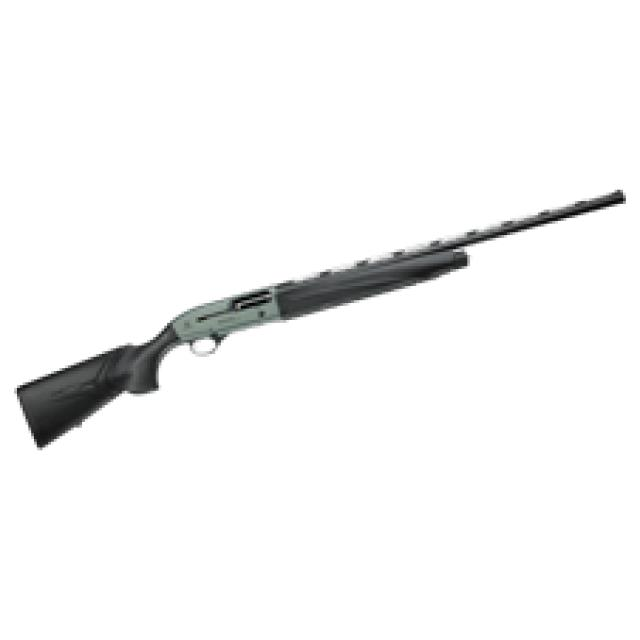rifle: (18, 182, 635, 460)
